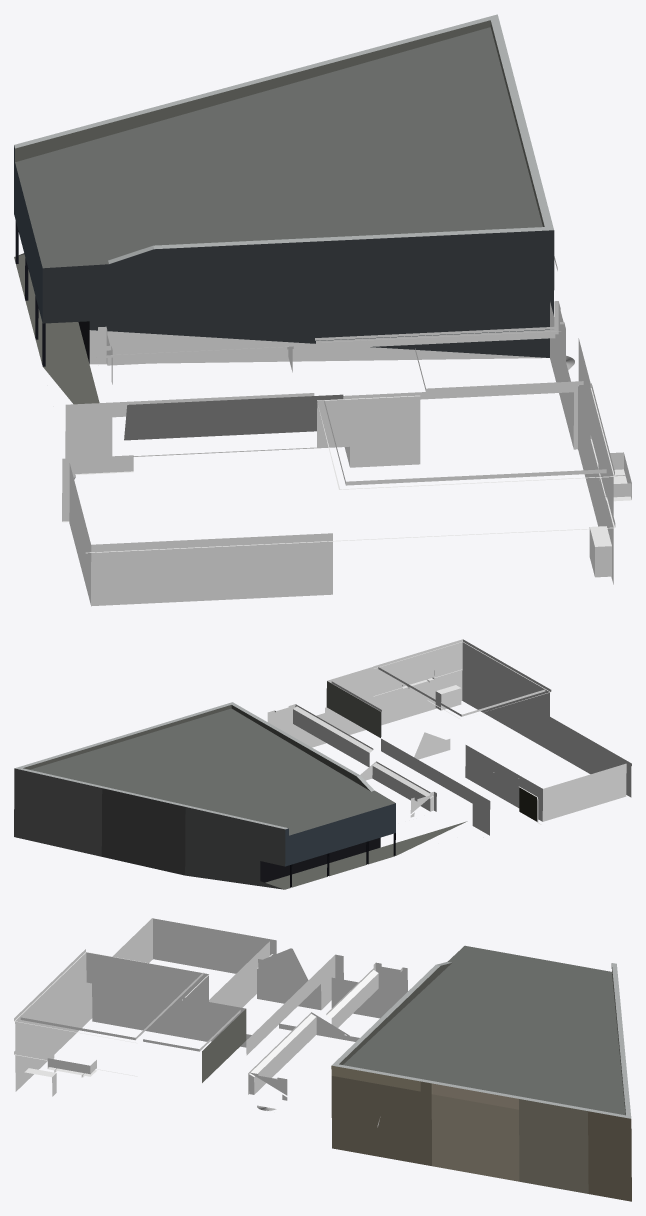
Rendered from 1401-williams-street.glb.
The picture shows the model from 3 angles, top to bottom: view 1: azimuth 30°, elevation 25°; view 2: azimuth 150°, elevation 25°; view 3: azimuth 270°, elevation 25°; orthographic projection. The views are drawn at different scales.
Visible parts, largest first — view 1: LOD0; view 2: LOD0; view 3: LOD0.
Part boxes in pixels (left/top/right/bottom): LOD0: left=14, top=14, right=631, bottom=606; LOD0: left=14, top=639, right=631, bottom=889; LOD0: left=14, top=918, right=631, bottom=1201.
Size of what is drawn, in the model's own units: 64.34 by 10.57 by 68.01.
2 materials, 2 textured.
